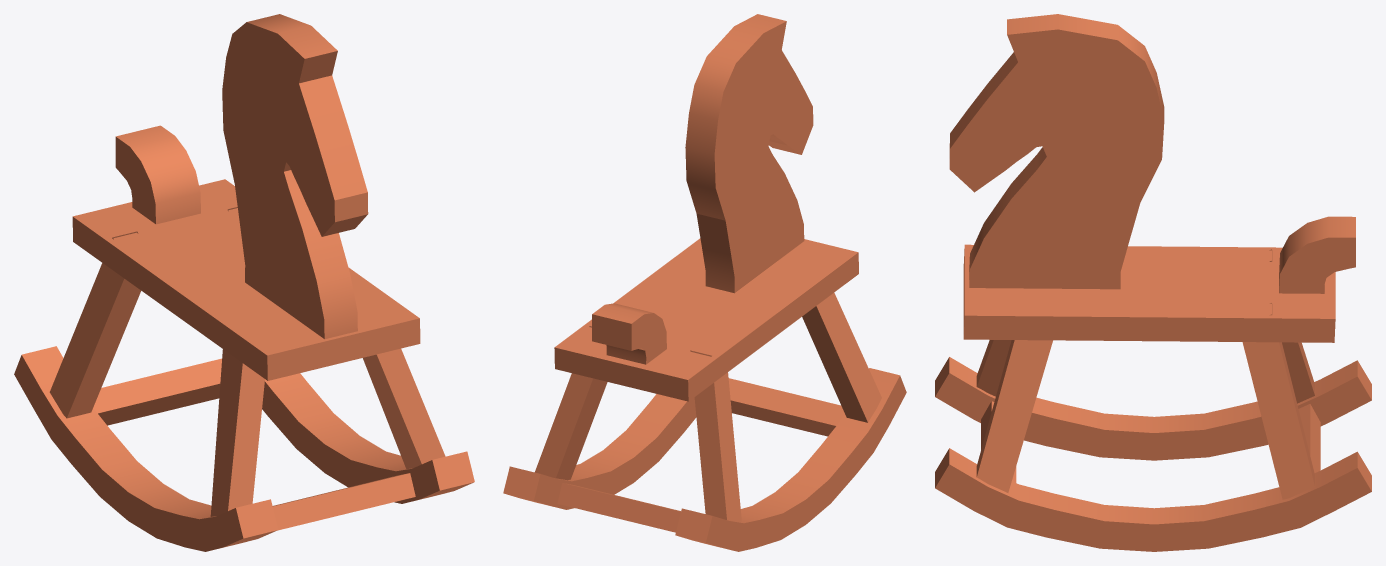
The model's file is RockingHorse_01.fbx.
The picture shows the model from 3 angles, left to right: view 1: azimuth 30°, elevation 25°; view 2: azimuth 150°, elevation 25°; view 3: azimuth 270°, elevation 25°; orthographic projection. The views are drawn at different scales.
Parts seen in each view (by area): view 1: RockingHorse_01; view 2: RockingHorse_01; view 3: RockingHorse_01.
Boxes of the visible parts, x1,y1,x2,y2 form: RockingHorse_01: (14, 14, 474, 551); RockingHorse_01: (503, 14, 906, 551); RockingHorse_01: (935, 14, 1371, 551).
Bounding box in the file's own units: 0.3241 × 0.6691 × 0.5562.
